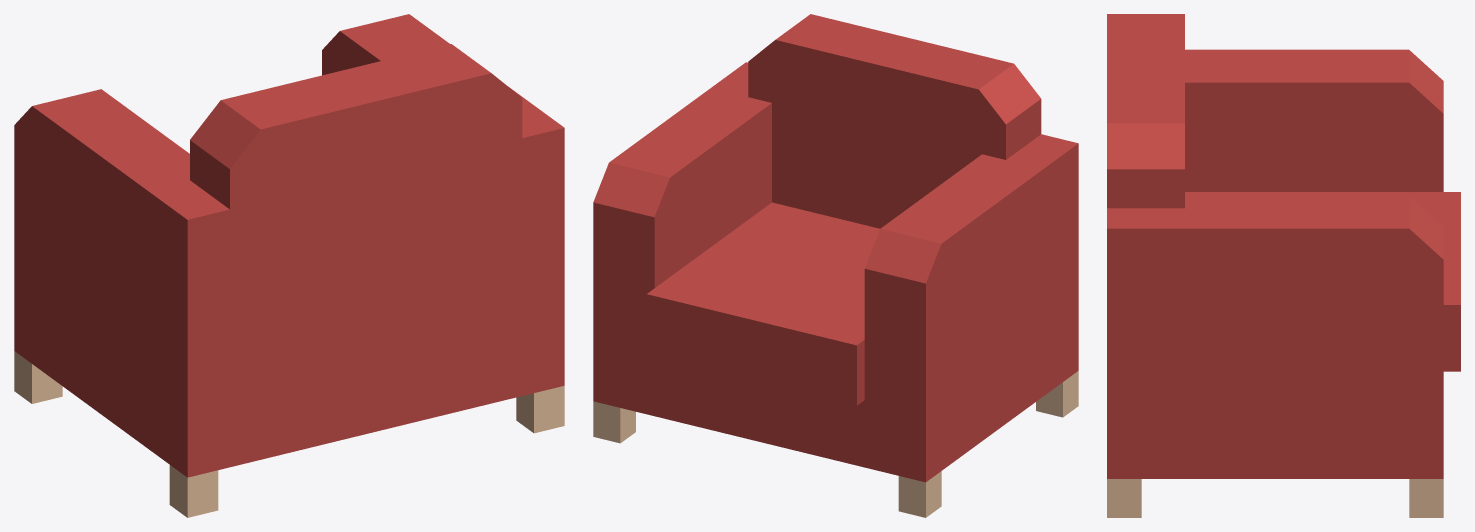
File: Furniture_ArmChair_Single.fbx
3 views of the same model, side by side, from view 1: azimuth 30°, elevation 25°; view 2: azimuth 150°, elevation 25°; view 3: azimuth 270°, elevation 25° (orthographic). The views are drawn at different scales.
Visible parts, largest first — view 1: loungeChair; view 2: loungeChair; view 3: loungeChair.
Part boxes in pixels (box(x1,y1,x2,y2)): loungeChair: box(14, 14, 564, 517); loungeChair: box(593, 14, 1078, 517); loungeChair: box(1107, 14, 1460, 517).
Bounding box in the file's own units: 120 × 112 × 100.
